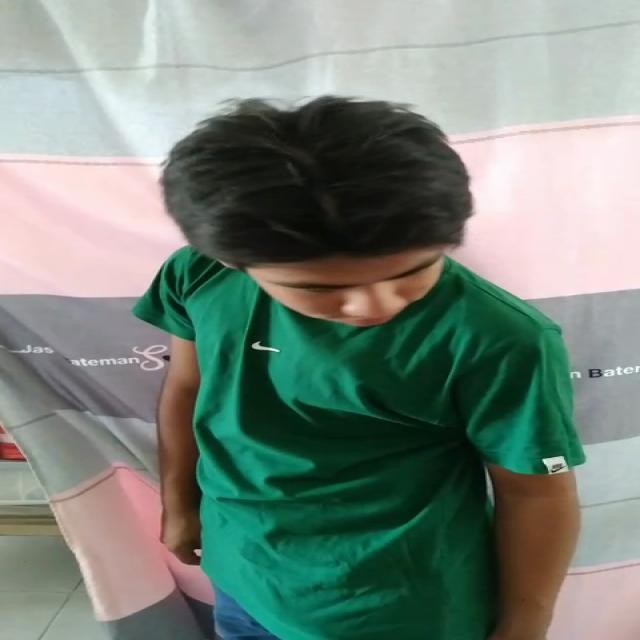9_cabeza_baja: (158, 95, 472, 324)
